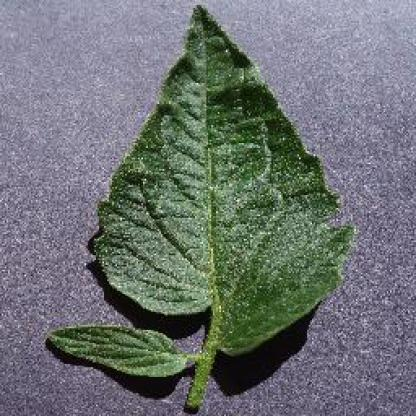good leaf: (122, 1, 310, 315)
